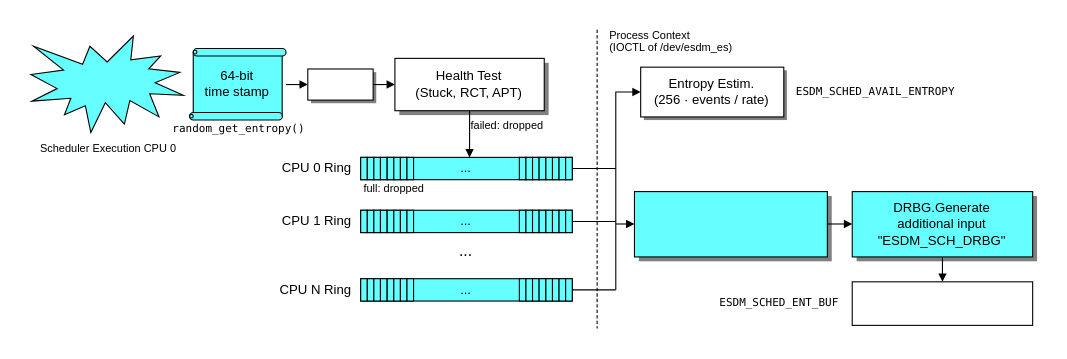
Image size: 1067x359. Some labels were removed from this diagram. Each missing label, with the centre of its shape:
"/ GCD" belongs at (339,84).
"Kernel DRBG (XDRBG-256 or HMAC_DRBG) DRBG.Seed(events)" belongs at (730,223).
"Scheduler ES Seed Data" belongs at (941,302).
"Task Wakeup" belongs at (106,83).
